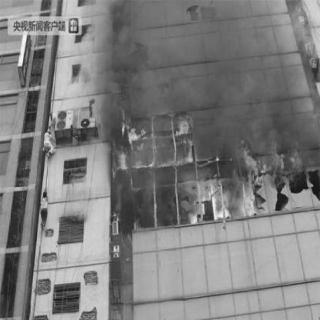Fire: (150, 134, 306, 226), (107, 106, 205, 180)
